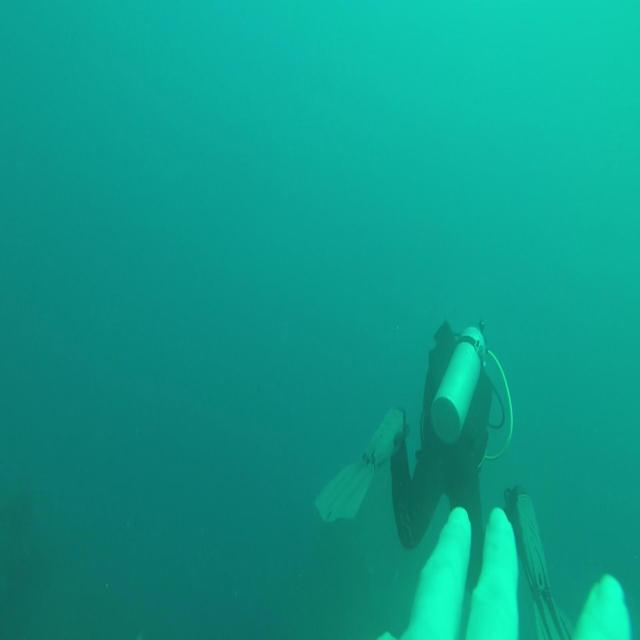human: (389, 317, 512, 596)
